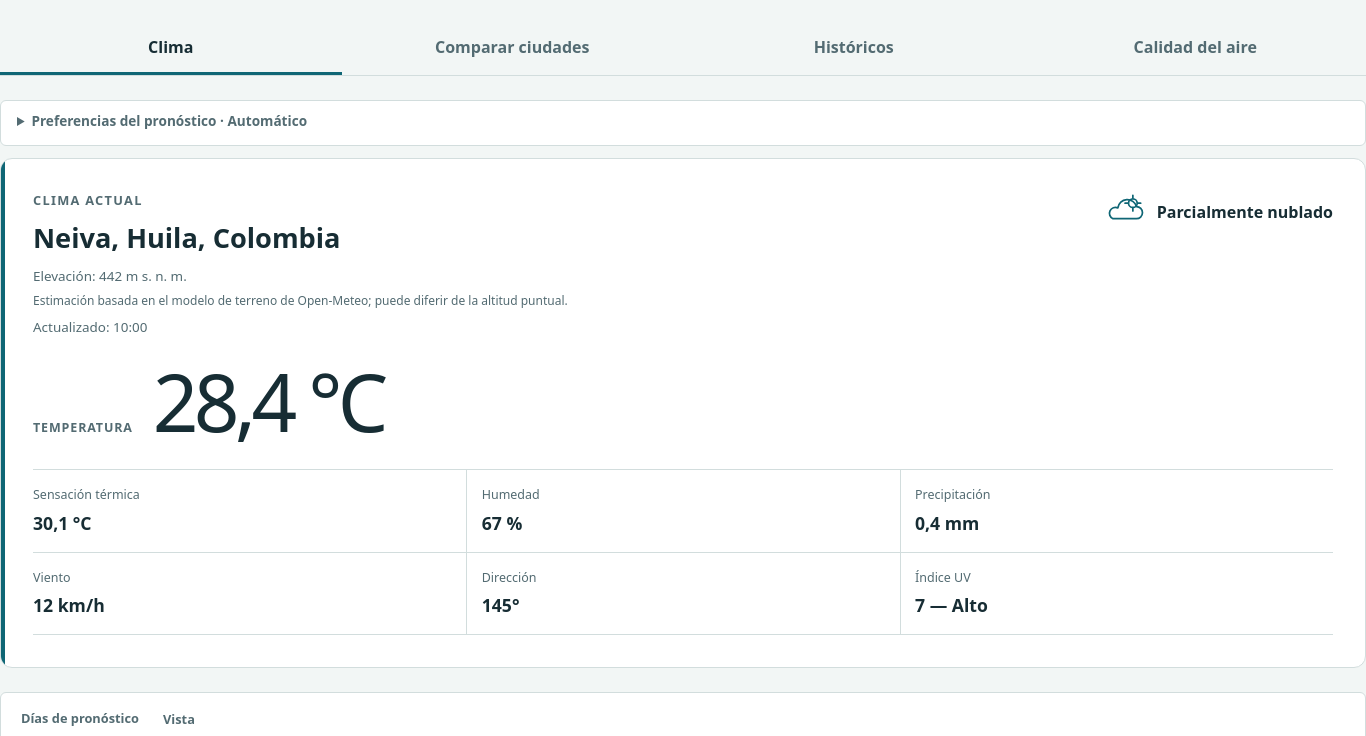
CurrentWeather › presenta cuatro áreas de consulta y abre solo la elegida
Click the button "Históricos".
click(854, 49)  # box [683,22,1024,75]
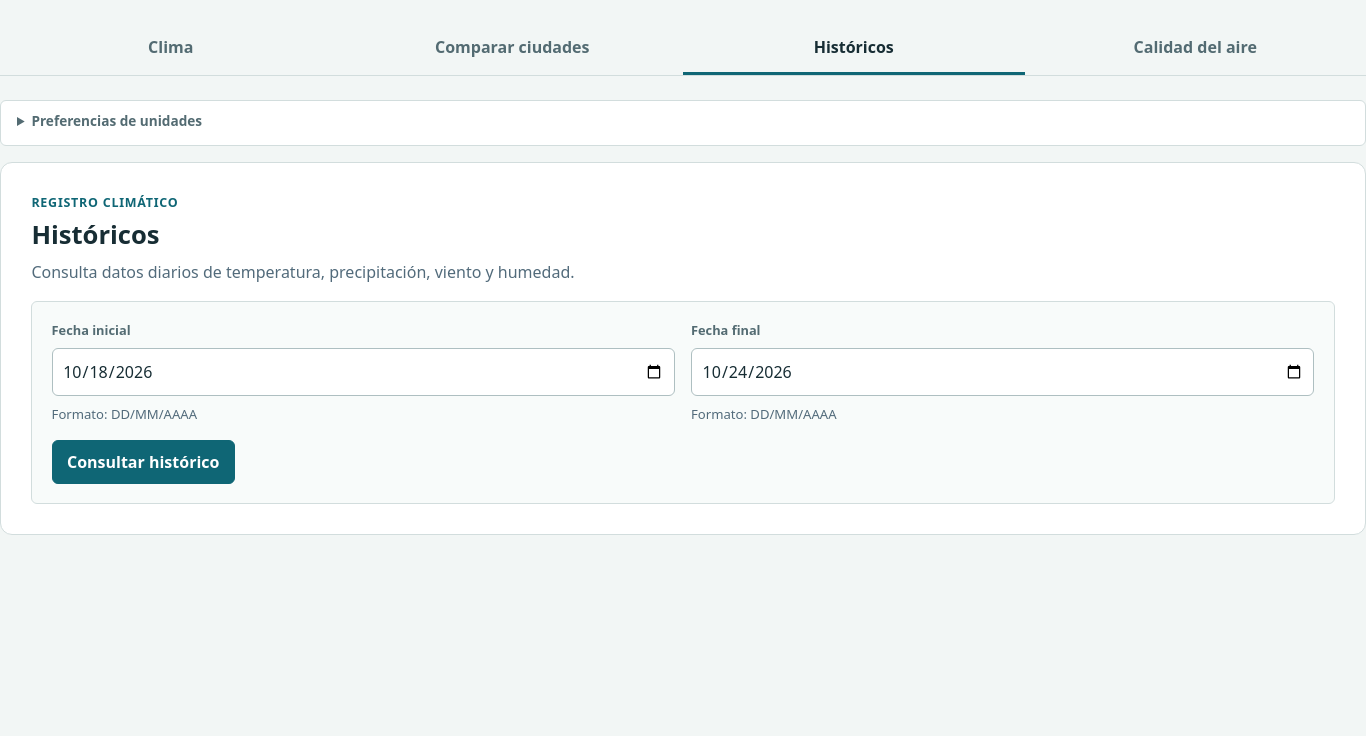
Check: the heading "Históricos" is shown, box [31,217,160,252]
Check: the heading "Clima actual" is gone
Click the button "Calidad del aire".
click(1195, 49)  # box [1024,22,1365,75]
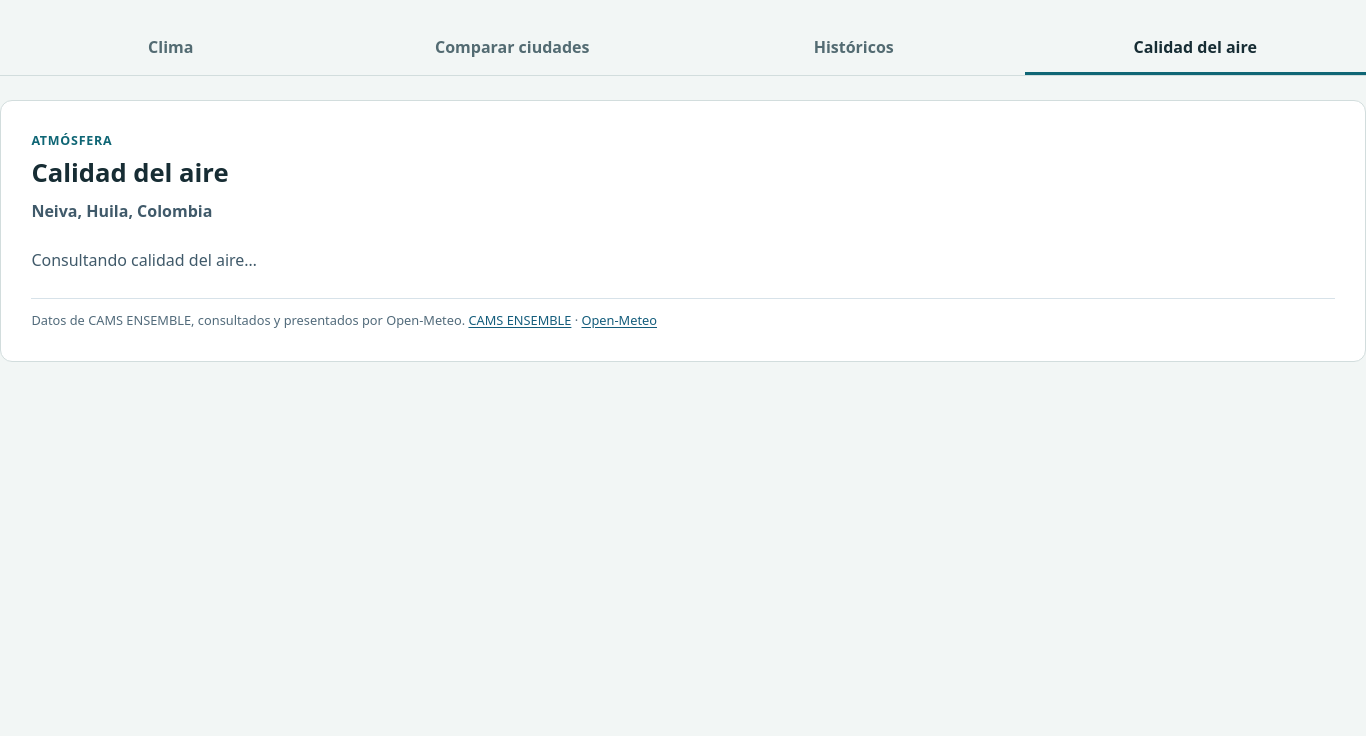
Check: the heading "Calidad del aire" is shown, box [31,154,229,193]
Click the button "Clima".
click(171, 49)  # box [0,22,342,75]
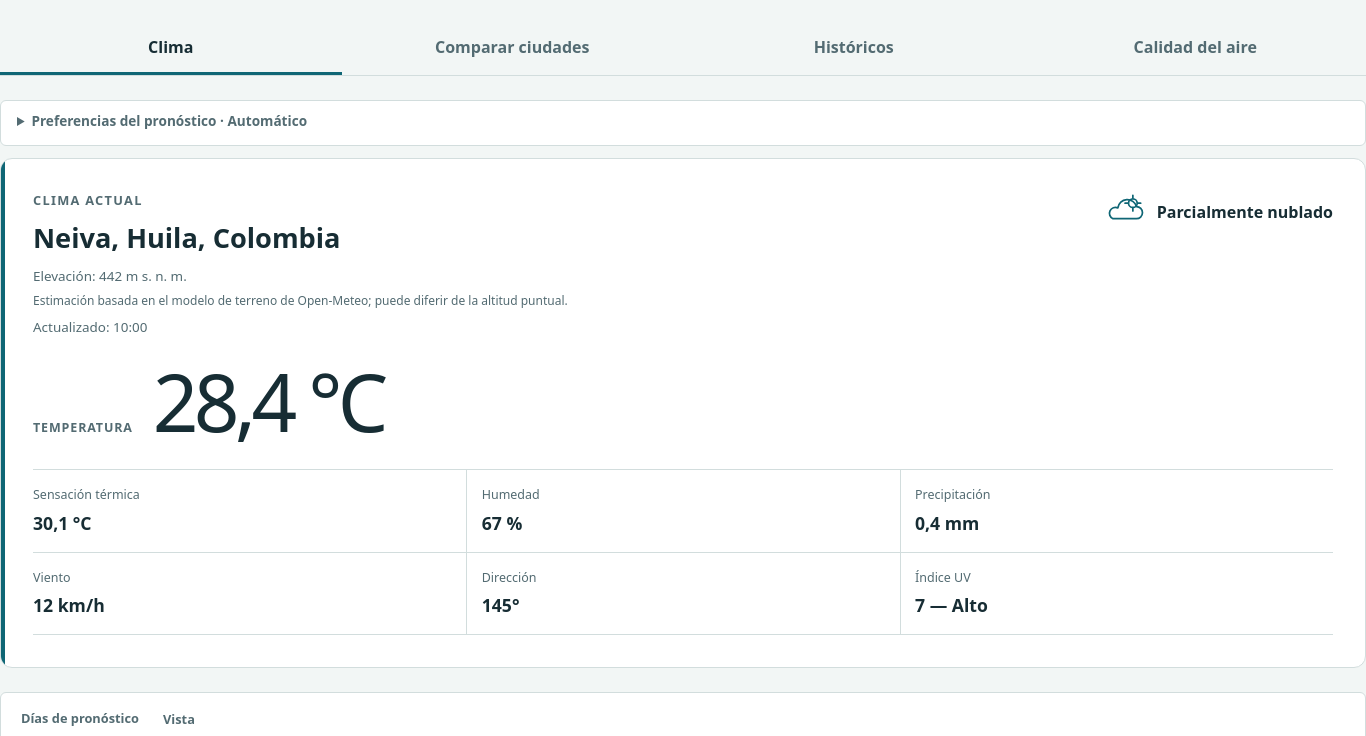
Check: the element "Clima actual" is shown
